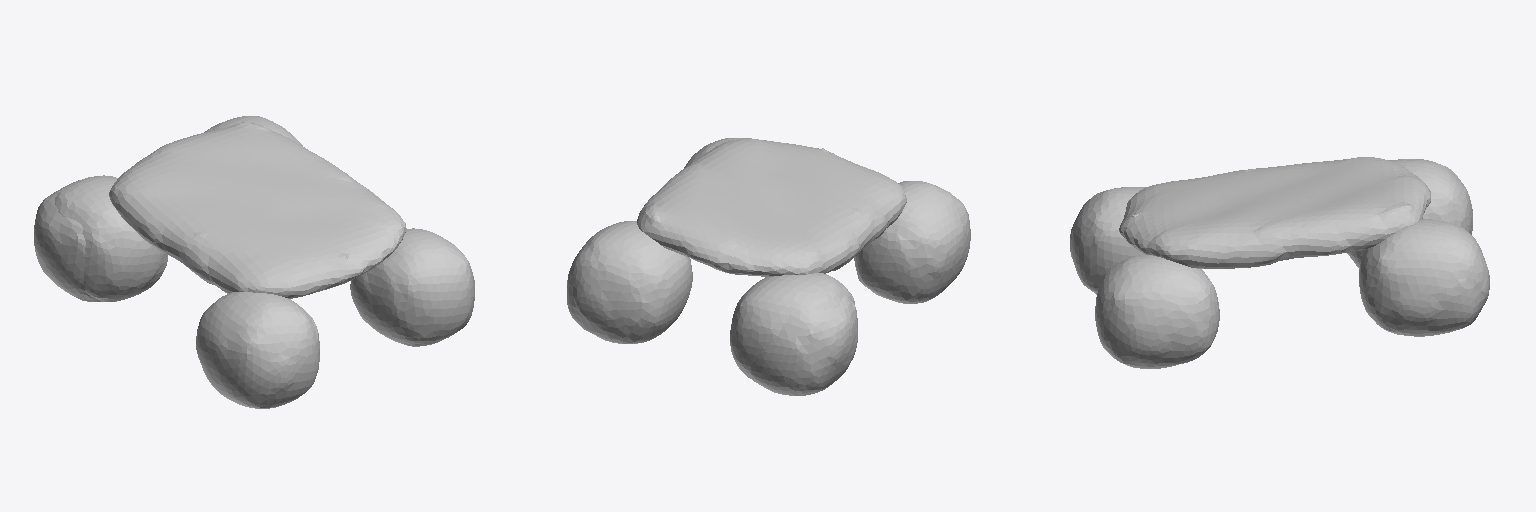
The model's file is chaji6.obj.
The picture shows the model from 3 angles: view 1: azimuth 30°, elevation 25°; view 2: azimuth 150°, elevation 25°; view 3: azimuth 270°, elevation 25°; orthographic projection.
Bounding box in the file's own units: 0.5011 × 0.2463 × 0.6229.